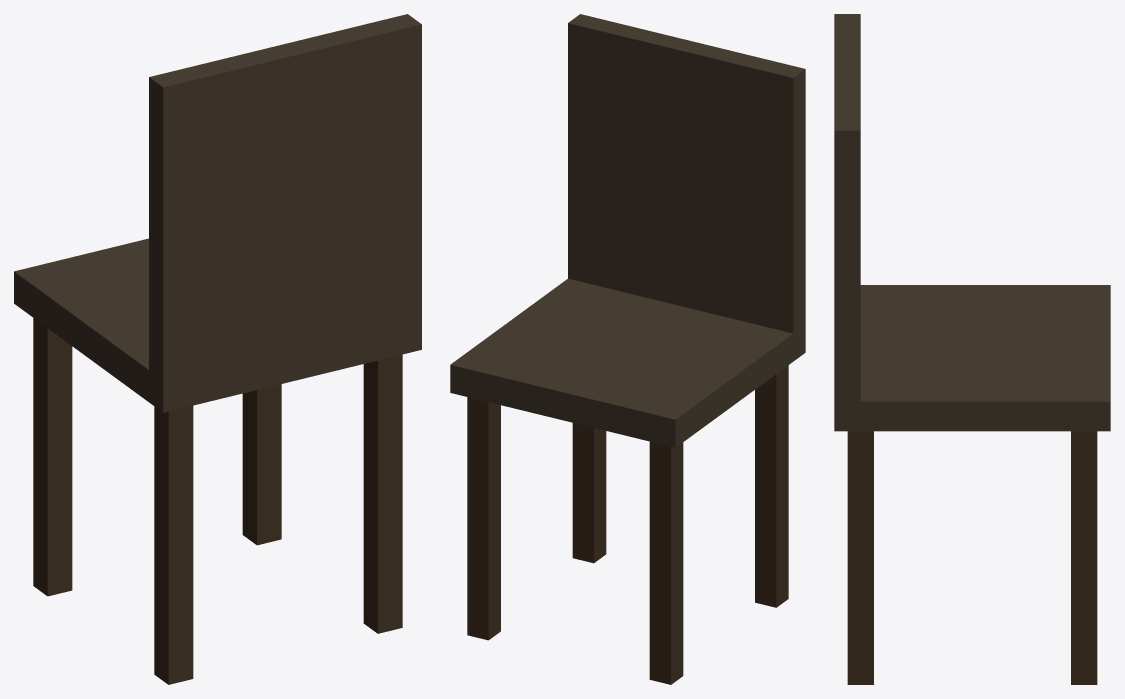
Rendered from welt_stuhl.glb.
3 renders of one model, left to right at view 1: azimuth 30°, elevation 25°; view 2: azimuth 150°, elevation 25°; view 3: azimuth 270°, elevation 25°, orthographic. The views are drawn at different scales.
Visible parts, largest first — view 1: lehne, sitz, bein_0, bein_1, bein_2, bein_3; view 2: lehne, sitz, bein_2, bein_3, bein_0, bein_1; view 3: sitz, lehne, bein_1, bein_3.
Part boxes in pixels (left/top/right/bottom): lehne: left=149, top=14, right=421, bottom=396; sitz: left=14, top=238, right=421, bottom=412; bein_0: left=154, top=405, right=193, bottom=684; bein_1: left=363, top=354, right=402, bottom=633; bein_2: left=33, top=318, right=72, bottom=596; bein_3: left=242, top=384, right=281, bottom=545; lehne: left=568, top=14, right=805, bottom=347; sitz: left=450, top=278, right=805, bottom=447; bein_2: left=649, top=441, right=683, bottom=684; bein_3: left=467, top=397, right=500, bottom=640; bein_0: left=755, top=365, right=788, bottom=607; bein_1: left=572, top=423, right=606, bottom=563; sitz: left=834, top=285, right=1110, bottom=431; lehne: left=834, top=14, right=860, bottom=416; bein_1: left=847, top=431, right=873, bottom=684; bein_3: left=1071, top=431, right=1097, bottom=684.
Bounding box in the file's own units: 0.42 × 0.94 × 0.42.
